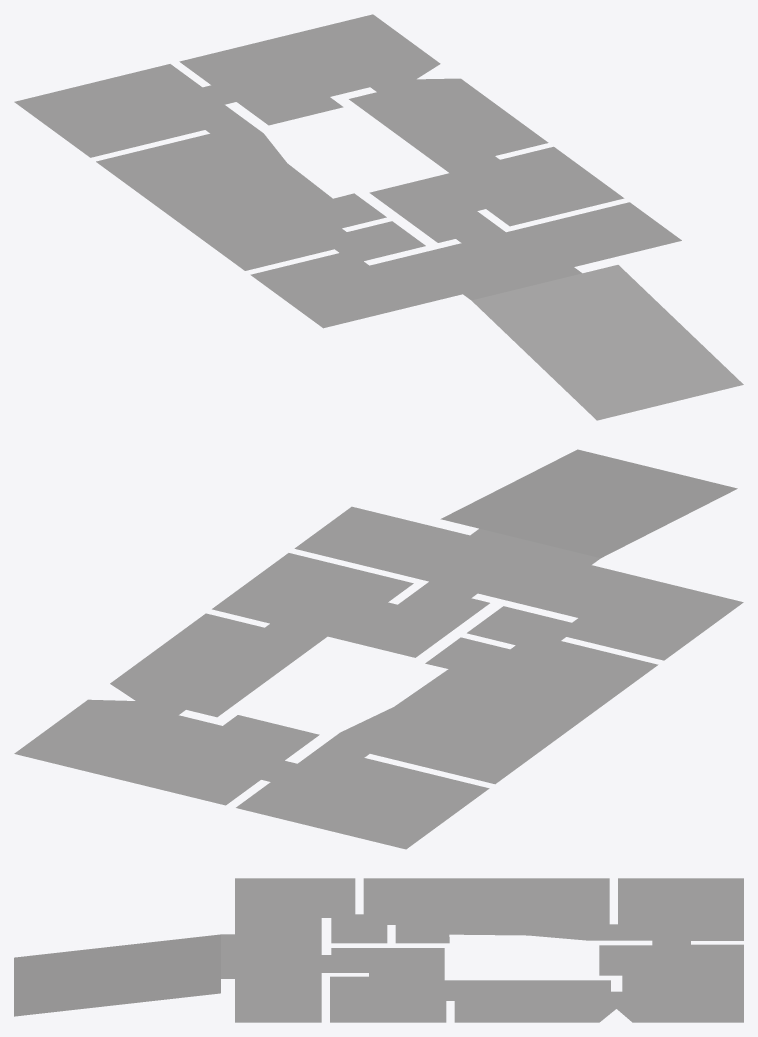
The model's file is nav-mesh.gltf.
The picture shows the model from 3 angles, top to bottom: view 1: azimuth 30°, elevation 25°; view 2: azimuth 150°, elevation 25°; view 3: azimuth 270°, elevation 25°; orthographic projection. The views are drawn at different scales.
Visible parts, largest first — view 1: nav-mesh; view 2: nav-mesh; view 3: nav-mesh.
Boxes of the visible parts, left/top/right/bottom form: nav-mesh: left=14, top=14, right=743, bottom=420; nav-mesh: left=14, top=449, right=743, bottom=849; nav-mesh: left=14, top=878, right=743, bottom=1022.
Bounding box in the file's own units: 12.2 × 0.9145 × 26.1.
Materials: 1 (1 with a texture image).
